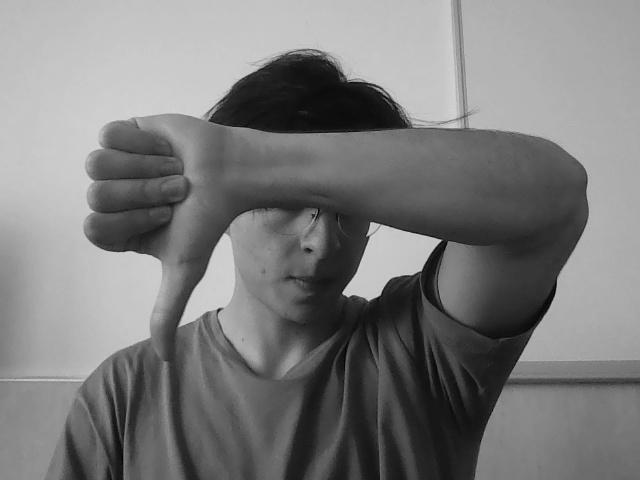bad: (98, 88, 216, 390)
